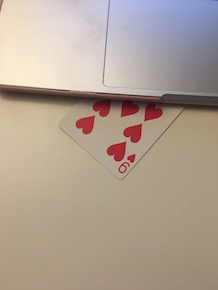NineOfHearts: (58, 92, 188, 182)
